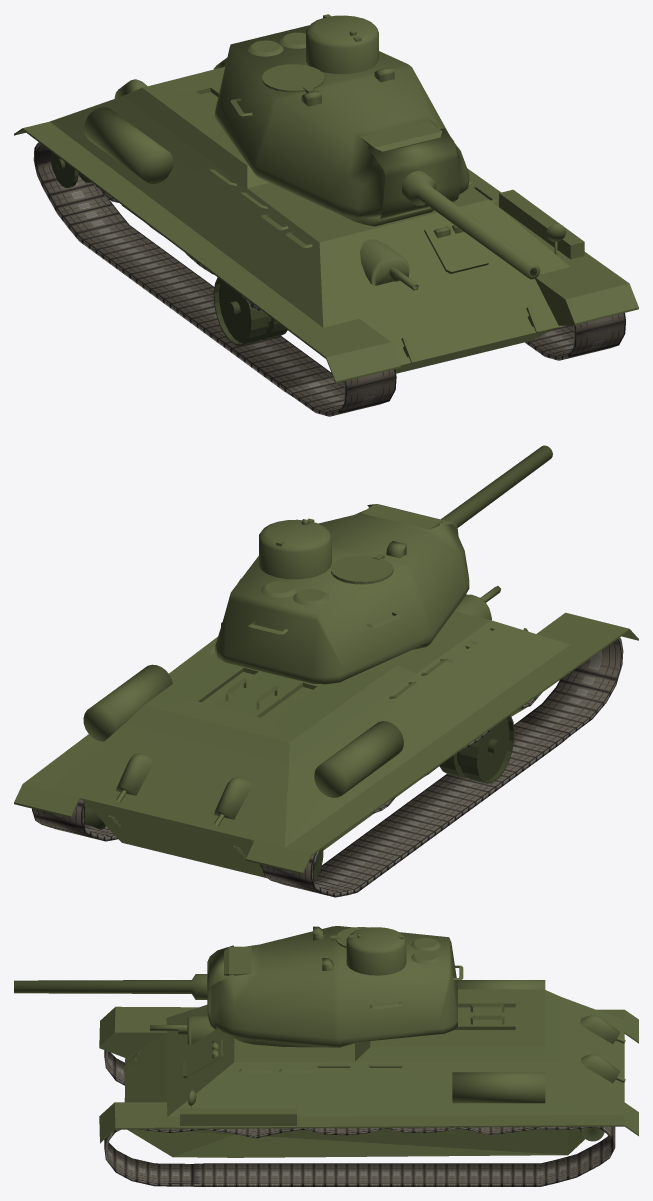
The model's file is starter.glb.
3 views of the same model, one above another, from view 1: azimuth 30°, elevation 25°; view 2: azimuth 150°, elevation 25°; view 3: azimuth 270°, elevation 25° (orthographic). The views are drawn at different scales.
Parts seen in each view (by area): view 1: Hull, Turret, Track_R, Barrel, Track_L; view 2: Hull, Turret, Track_R, Barrel, Track_L; view 3: Hull, Turret, Track_L, Barrel, Track_R.
Boxes of the visible parts, x1,y1,x2,y2 form: Hull: [14, 58, 638, 383]; Turret: [209, 14, 497, 247]; Track_R: [33, 142, 396, 416]; Barrel: [401, 170, 540, 279]; Track_L: [525, 313, 625, 360]; Hull: [14, 586, 638, 879]; Turret: [210, 504, 498, 709]; Track_R: [261, 637, 623, 897]; Barrel: [441, 445, 552, 527]; Track_L: [32, 799, 117, 841]; Hull: [99, 980, 638, 1157]; Turret: [207, 926, 504, 1072]; Track_L: [104, 1126, 615, 1186]; Barrel: [14, 974, 207, 999]; Track_R: [104, 1050, 124, 1085].
Bounding box in the file's own units: 3.24 × 2.57 × 7.06.
3 materials, 1 textured.
